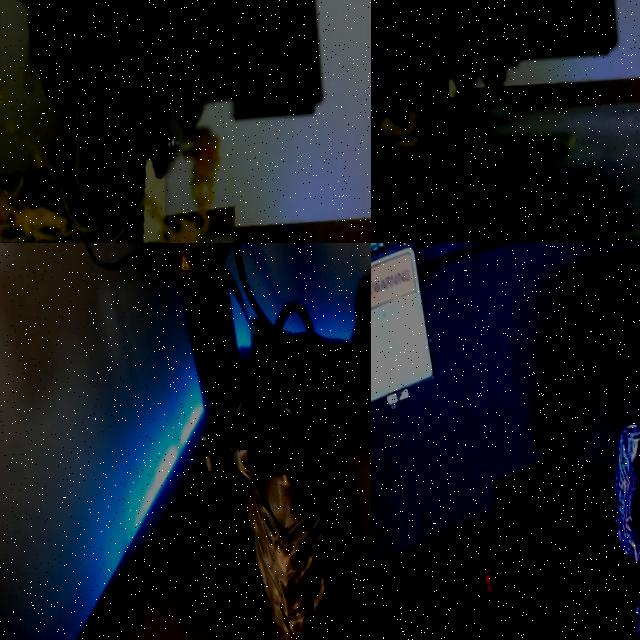spaghetti: (0, 120, 221, 243), (371, 92, 507, 142)
